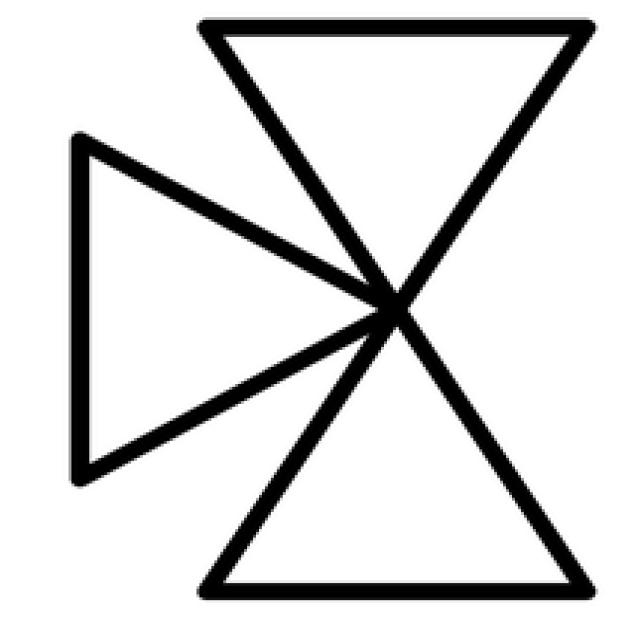3-way Valve: (204, 30, 591, 596), (75, 135, 393, 478)
